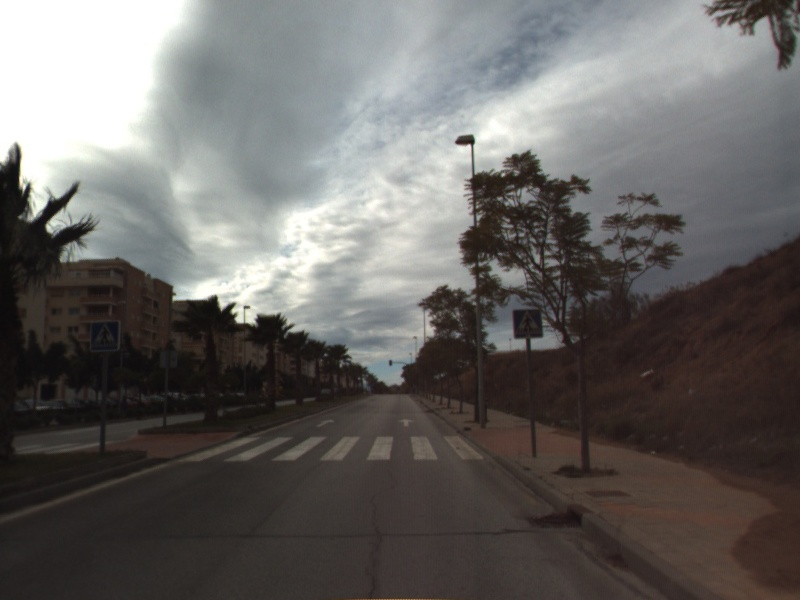STRAIGHT: (314, 417, 337, 429), (396, 417, 417, 428)
